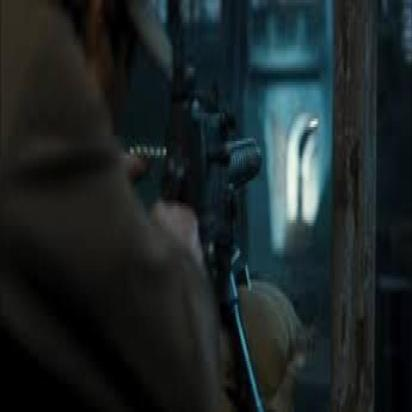Gun: (131, 82, 261, 269)
